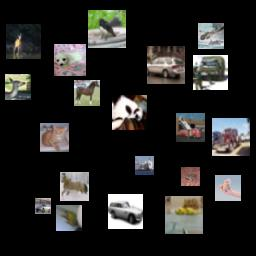airplane: (198, 23, 224, 49)
automobile: (147, 46, 185, 84), (108, 194, 143, 229), (35, 198, 51, 214)
bird: (88, 10, 126, 48)
cat: (112, 95, 147, 130), (40, 123, 69, 152), (215, 175, 241, 201)
deer: (6, 24, 41, 59), (5, 74, 31, 100)
dog: (54, 44, 86, 76)
frog: (56, 205, 82, 231), (181, 167, 200, 186)
ship: (165, 196, 203, 234), (135, 156, 154, 175)
truck: (212, 118, 250, 156), (193, 55, 228, 90), (176, 113, 205, 142)
